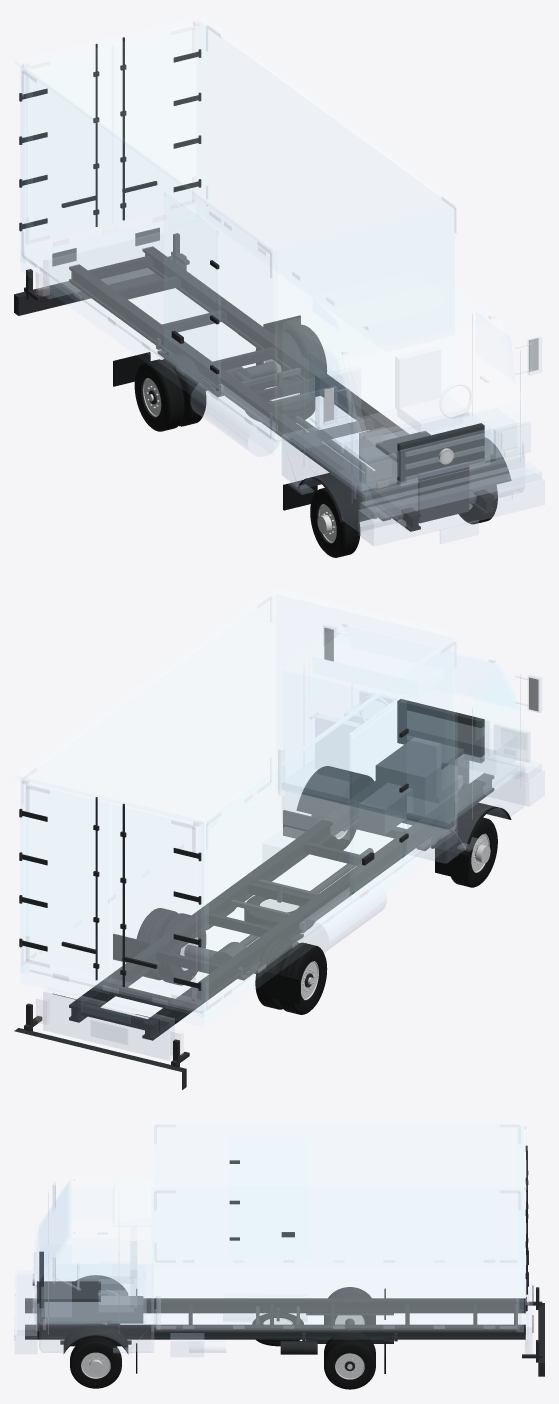
Rendered from vw_delivery_gef_raiox.glb.
The picture shows the model from 3 angles, top to bottom: view 1: azimuth 30°, elevation 25°; view 2: azimuth 150°, elevation 25°; view 3: azimuth 270°, elevation 25°; orthographic projection. The views are drawn at different scales.
Visible parts, largest first — view 1: Floor, Cab_Skirt, Rail_Flange_Top (×2), Tire (×5), Front_Bumper, Seat_Back (×2), Crossmember (×6), Engine, Rail_Web (×2), Dashboard, Front_Bumper_Lip, Radiator (+12 smaller); view 2: Floor, Cab_Skirt, Rail_Flange_Top (×2), Tire (×6), Rear_Panel, Engine, Crossmember (×6), Dashboard, Rail_Web (×2), Wheel_Arch_Liner (×2), Seat_Back (×2), Radiator (+10 smaller); view 3: Floor, Cab_Skirt, Rail_Flange_Top (×2), Rail_Web (×2), Tire (×4), Cab_Floor, Rail_Flange_Bottom (×2), Engine, Dashboard, Front_Bumper, Seat_Base (×2), Wheel_Arch_Liner (×2) (+10 smaller).
Part boxes in pixels (<box>): Floor: <box>31,218,384,442</box>; Cab_Skirt: <box>282,396,524,531</box>; Rail_Flange_Top (×2): <box>69,246,494,519</box>; Tire (×5): <box>134,324,360,557</box>; Front_Bumper: <box>358,469,544,546</box>; Seat_Back (×2): <box>315,346,440,430</box>; Crossmember (×6): <box>88,256,374,441</box>; Engine: <box>375,431,469,523</box>; Rail_Web (×2): <box>71,253,491,529</box>; Dashboard: <box>344,408,516,484</box>; Front_Bumper_Lip: <box>360,462,541,520</box>; Radiator: <box>397,423,484,487</box>; Floor: <box>29,788,448,1013</box>; Cab_Skirt: <box>282,754,524,863</box>; Rail_Flange_Top (×2): <box>69,773,493,1027</box>; Tire (×6): <box>136,817,497,1014</box>; Rear_Panel: <box>43,988,174,1060</box>; Engine: <box>375,737,468,816</box>; Crossmember (×6): <box>82,842,365,1030</box>; Dashboard: <box>345,701,516,774</box>; Rail_Web (×2): <box>71,780,491,1038</box>; Wheel_Arch_Liner (×2): <box>296,766,511,852</box>; Seat_Back (×2): <box>315,714,440,797</box>; Radiator: <box>397,699,484,762</box>; Floor: <box>156,1267,518,1329</box>; Cab_Skirt: <box>39,1264,153,1352</box>; Rail_Flange_Top (×2): <box>25,1298,525,1330</box>; Rail_Web (×2): <box>25,1304,525,1336</box>; Tire (×4): <box>70,1312,375,1389</box>; Cab_Floor: <box>45,1265,146,1322</box>; Rail_Flange_Bottom (×2): <box>25,1310,525,1339</box>; Engine: <box>37,1281,100,1324</box>; Dashboard: <box>41,1244,71,1316</box>; Front_Bumper: <box>15,1275,37,1353</box>; Seat_Base (×2): <box>99,1262,133,1311</box>; Wheel_Arch_Liner (×2): <box>63,1275,128,1354</box>.
Bounding box in the file's own units: 2.72 × 3.4 × 7.84.
